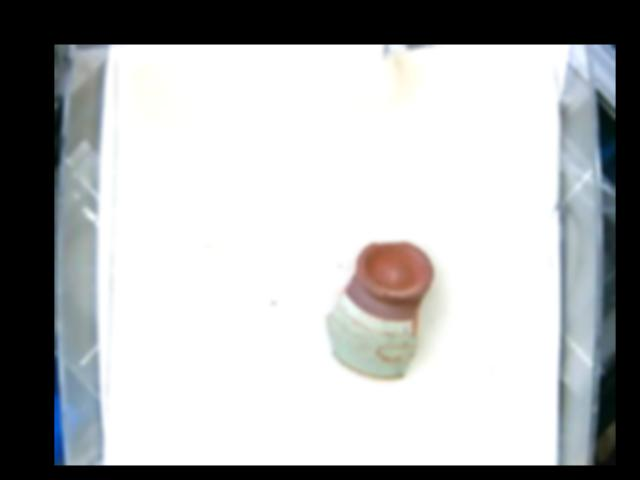China: (326, 239, 434, 380)
